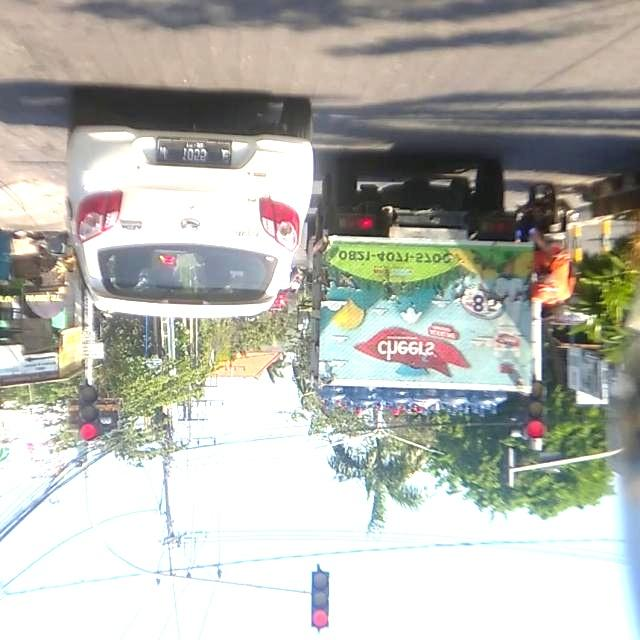Red: (522, 377, 554, 443), (73, 382, 104, 446), (306, 564, 334, 630)
